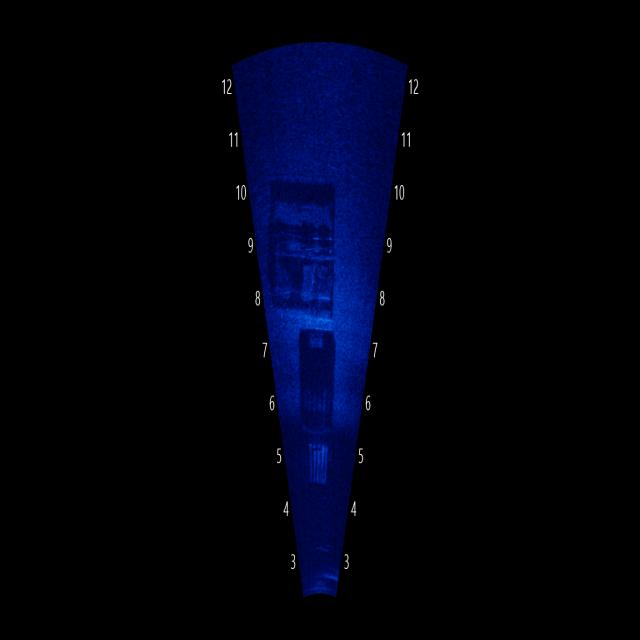square: (260, 155, 344, 315), (301, 393, 343, 532)
